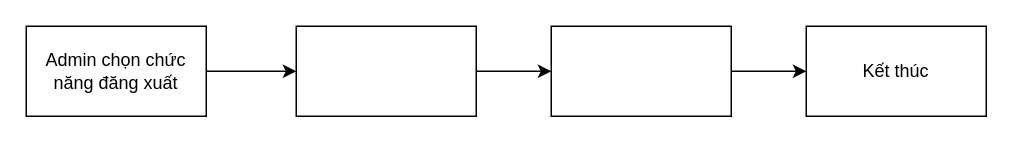
Some shapes in this 1013 by 143 pixel diagram are drawn without their labels. Here are the shapes that lost their labels. From the top down, the centre of each, then its label:
At (x=385, y=70): "Hệ thống xóa thông tin đăng nhập".
At (x=640, y=70): "Chuyển về trang Login".
